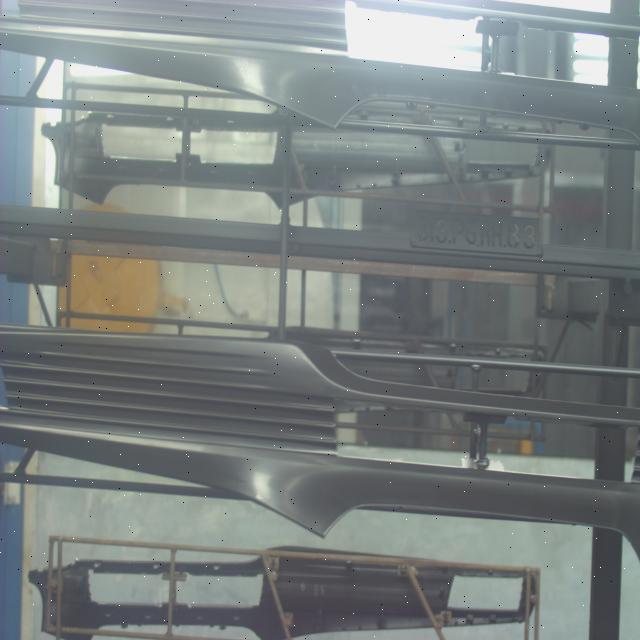Non_primered: (0, 320, 640, 574), (0, 0, 640, 140)
